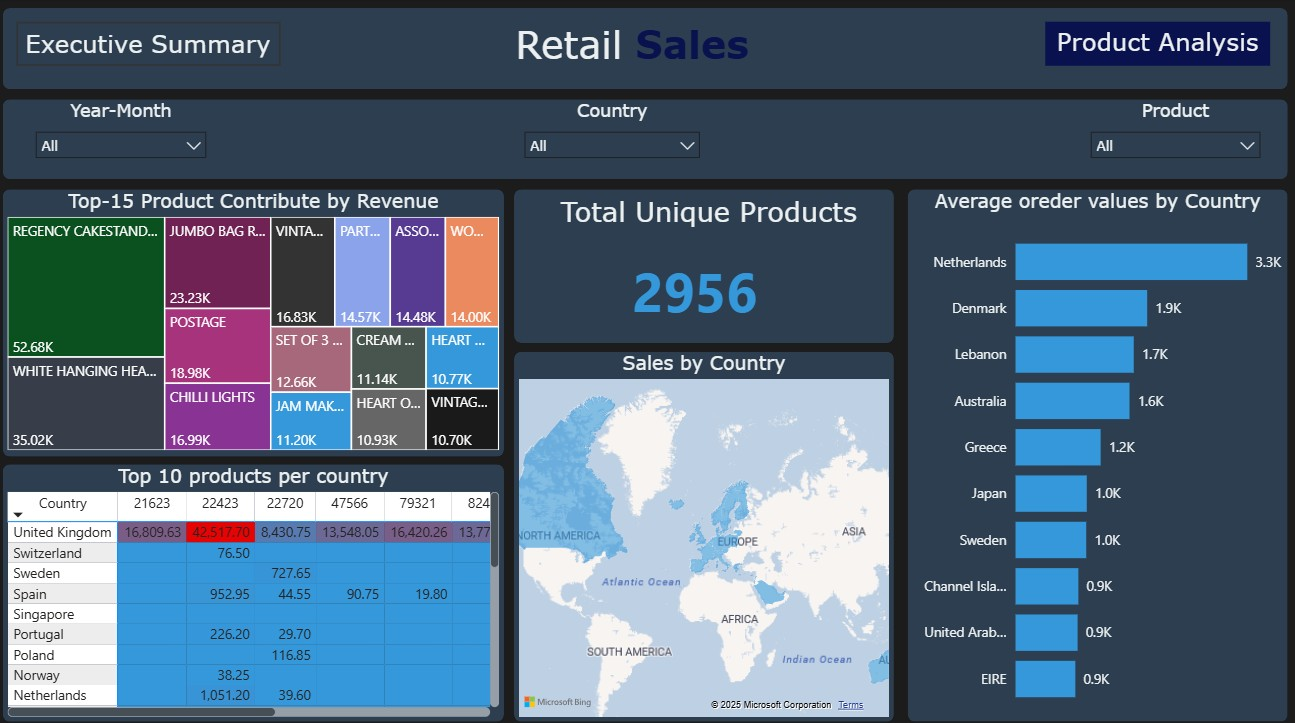

The page's visual inventory and layout, read from the dashboard file:
{"tool":"powerbi","page":{"name":"business","canvas":[1280,720],"ordinal":1},"visuals":[{"type":"shape","box":[8.6,99.4,1261.4,78.5],"z":0},{"type":"shape","box":[8.6,9.8,1261.4,79.8],"z":1},{"type":"shape","box":[8.6,187.7,492,262.6],"z":2},{"type":"shape","box":[8.6,457.7,492,252.8],"z":3},{"type":"shape","box":[896.9,187.7,373,522.7],"z":5},{"type":"shape","box":[510.4,187.7,373,150.9],"z":6},{"type":"shape","box":[510.4,347.2,373,363.2],"z":7},{"type":"card","fields":{"Values":["db_retail cleaned_sale.Total unique products"]},"box":[600,252.8,176.7,66.3],"z":9},{"type":"textbox","box":[543.6,187.7,316.6,47.9],"z":10},{"type":"clusteredBarChart","fields":{"Category":["db_retail cleaned_sale.Country"],"Y":["db_retail cleaned_sale.Average oreder values"]},"box":[896.9,187.7,373,522.7],"z":11},{"type":"filledMap","title":"Sales by Country","fields":{"Category":["db_retail cleaned_sale.Country"],"Y":["db_retail cleaned_sale.Total revenue"]},"box":[510.4,347.2,373,363.2],"z":12},{"type":"treemap","title":"Top-15 Product Contribute by Revenue","fields":{"Values":["db_retail cleaned_sale.Total revenue"],"Group":["db_retail cleaned_sale.Descr_iption"]},"box":[8.6,187.7,492,261.4],"z":13},{"type":"pivotTable","title":"Top 10 products per country","fields":{"Rows":["db_retail cleaned_sale.Country"],"Values":["db_retail cleaned_sale.Total revenue"],"Columns":["db_retail cleaned_sale.StockCode"]},"box":[8.6,457.7,492,252.8],"z":15},{"type":"slicer","title":"Year-Month","fields":{"Values":["db_retail cleaned_sale.Invoice_dt.Variation.Date Hierarchy.Year","db_retail cleaned_sale.Invoice_dt.Variation.Date Hierarchy.Month"]},"box":[30.7,99.4,187.7,78.5],"z":16},{"type":"slicer","title":"Country","fields":{"Values":["db_retail cleaned_sale.Country"]},"box":[510.4,99.4,192.6,78.5],"z":17},{"type":"slicer","title":"Product","fields":{"Values":["db_retail cleaned_sale.Descr_iption"]},"box":[1066.3,99.4,186.5,78.5],"z":18},{"type":"textbox","box":[476.1,17.2,300.6,65],"z":19},{"type":"textbox","box":[22.1,23.3,258.9,42.9],"z":20},{"type":"actionButton","box":[22.1,23.3,258.9,42.9],"z":21},{"type":"textbox","box":[1031.9,23.3,220.9,42.9],"z":22}]}

Visuals, with their boxes in screenshot pixels (x1, y1, x2, y2), scaled from the page's 1280x720 canvas onto the 1295x723 screenshot:
shape: 9 100 1285 179
shape: 9 10 1285 90
shape: 9 188 506 452
shape: 9 460 506 713
shape: 907 188 1285 713
shape: 516 188 894 340
shape: 516 349 894 713
card - db_retail cleaned_sale.Total unique products: 607 254 786 320
textbox: 550 188 870 237
clusteredBarChart - db_retail cleaned_sale.Country x db_retail cleaned_sale.Average oreder values: 907 188 1285 713
"Sales by Country" filledMap: 516 349 894 713
"Top-15 Product Contribute by Revenue" treemap: 9 188 506 451
"Top 10 products per country" pivotTable: 9 460 506 713
"Year-Month" slicer: 31 100 221 179
"Country" slicer: 516 100 711 179
"Product" slicer: 1079 100 1267 179
textbox: 482 17 786 83
textbox: 22 23 284 66
actionButton: 22 23 284 66
textbox: 1044 23 1267 66
